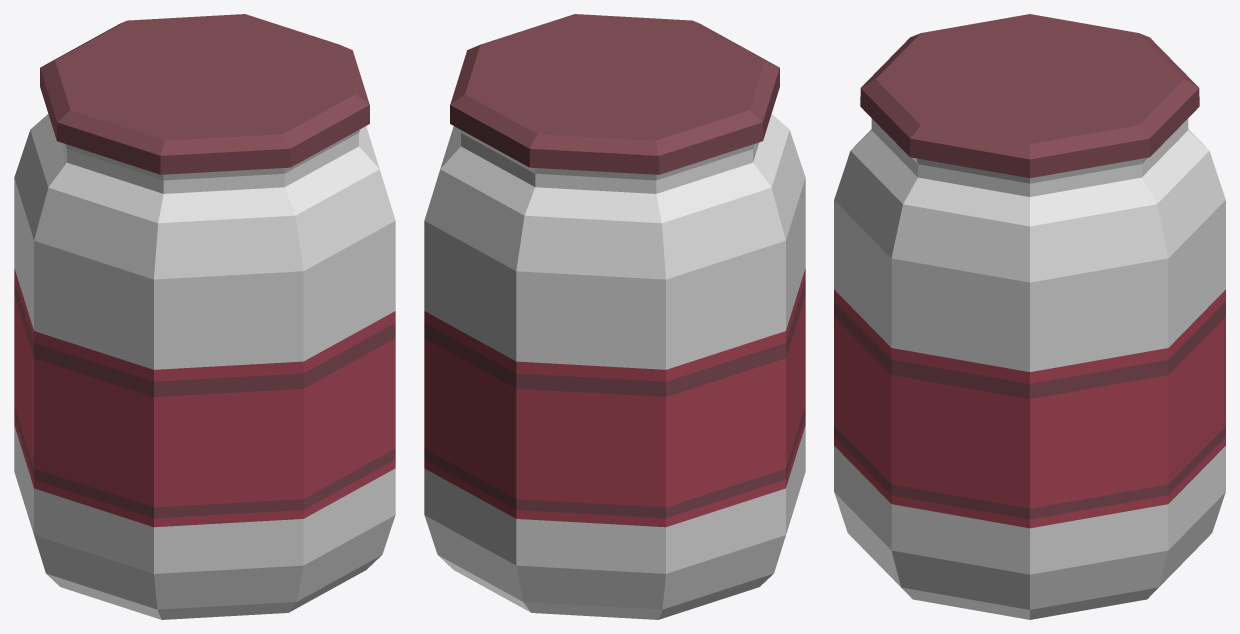
File: Halloween.PumpkinSpice.fbx
3 views of the same model, side by side, from view 1: azimuth 30°, elevation 25°; view 2: azimuth 150°, elevation 25°; view 3: azimuth 270°, elevation 25° (orthographic).
Visible parts, largest first — view 1: PumpkinSpice; view 2: PumpkinSpice; view 3: PumpkinSpice.
Part boxes in pixels (x1=…): PumpkinSpice: x1=14, y1=14, x2=395, y2=619; PumpkinSpice: x1=424, y1=14, x2=805, y2=619; PumpkinSpice: x1=834, y1=14, x2=1225, y2=619.
Bounding box in the file's own units: 79.85 × 106 × 79.85.
